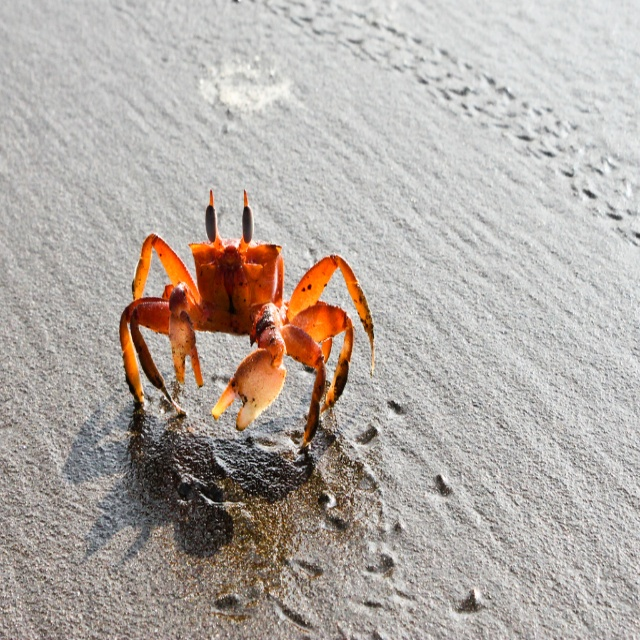Crab: (119, 189, 375, 448)
